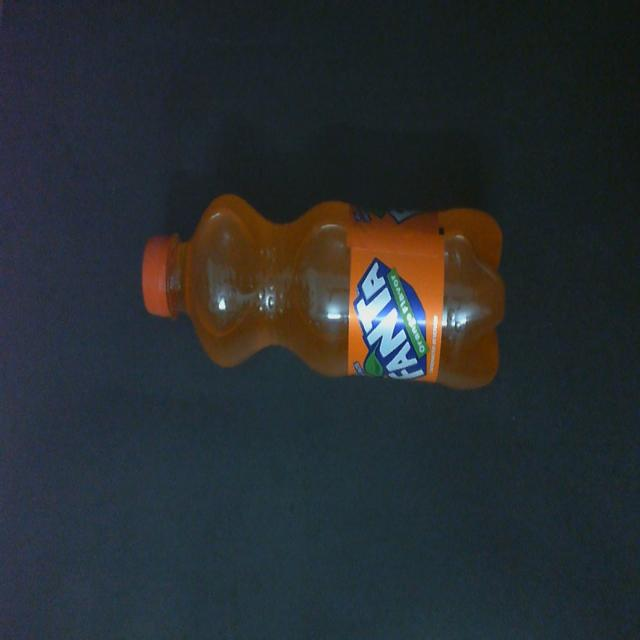non-defect: (141, 190, 508, 394)
